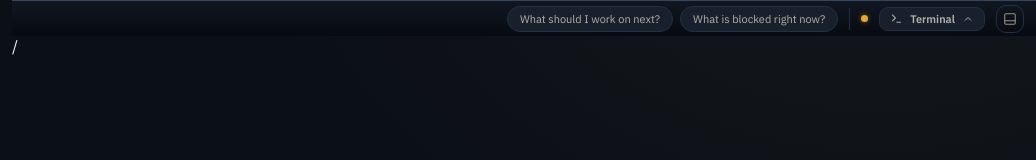
Test: suggestions on a screen that composes for its own thread › takes a pick made on Home to the chat page, where the reply is drawn
Click the button "What should I work on next?": {"x": 590, "y": 18} 507,6 -> 673,32
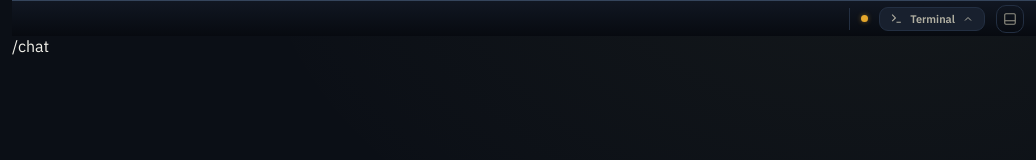
Now the text with test id "location" reads "/chat", box 12,36 -> 49,56
